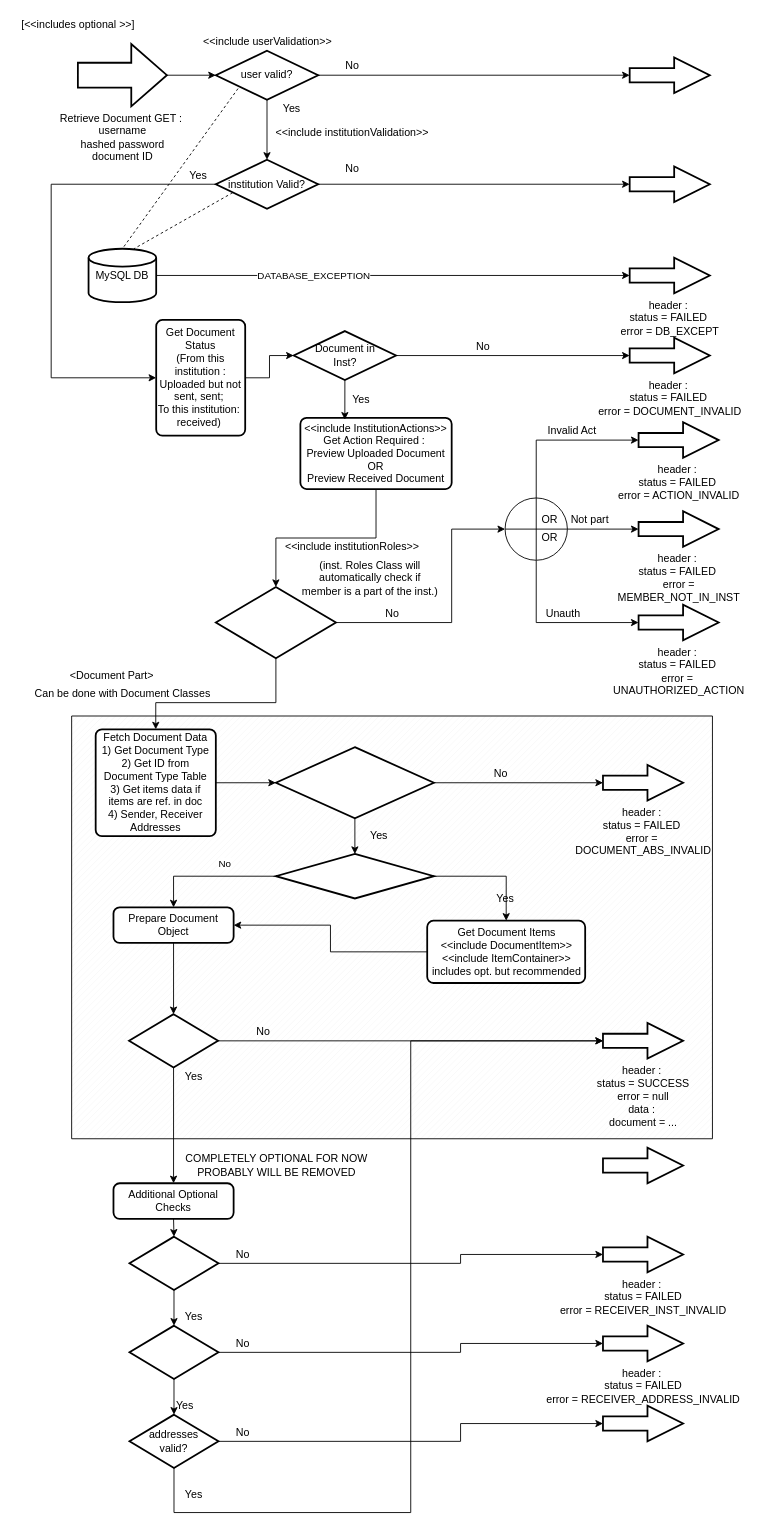
This 759x1535 diagram has some shape labels left out. Here are the shapes that lost their labels. From the top down, the centre of each, then its label:
At [669,74]: "header : status = FAILED error = USER_INVALID || error = PASSWORD_INVALID ...".
At [669,183]: "header : status = FAILED error = INVALID_INST".
At [275,622]: "is User Authorized for Action ?".
At [354,782]: "Document exists, Invoice / Receipt with docID exists?".
At [354,876]: "Doc has items attached?".
At [173,1040]: "do Additional Checks?".
At [643,1165]: "header : status = FAILED error = RECEIVER_INVALID".
At [173,1262]: "is receiver Valid?".
At [173,1352]: "is receiver inst valid?".
At [643,1423]: "header : status = FAILED error = SENDER_ADDRESS_INVALID".
